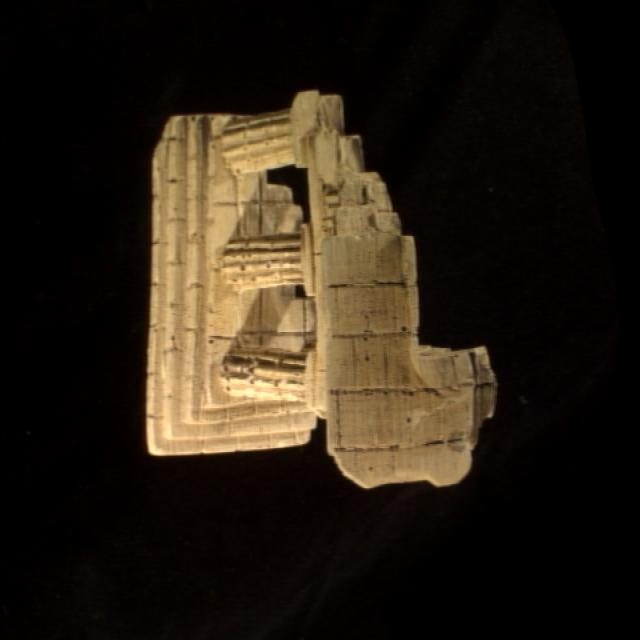Instance-Segmentation: (146, 91, 496, 487)
